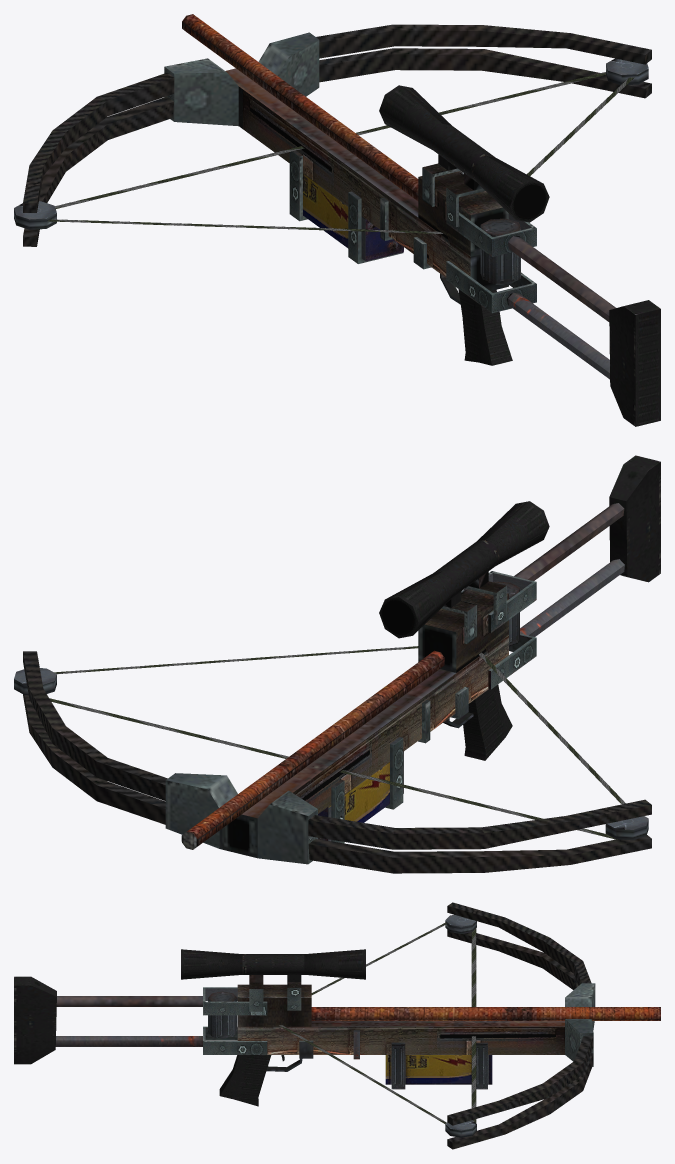
File: hl2-crossbow-half-life-2.glb
3 views of the same model, one above another, from view 1: azimuth 30°, elevation 25°; view 2: azimuth 150°, elevation 25°; view 3: azimuth 270°, elevation 25° (orthographic). The views are drawn at different scales.
Size of the model in its own units: 30.22 by 9.94 by 38.07.
Materials: 2 (2 with a texture image).
